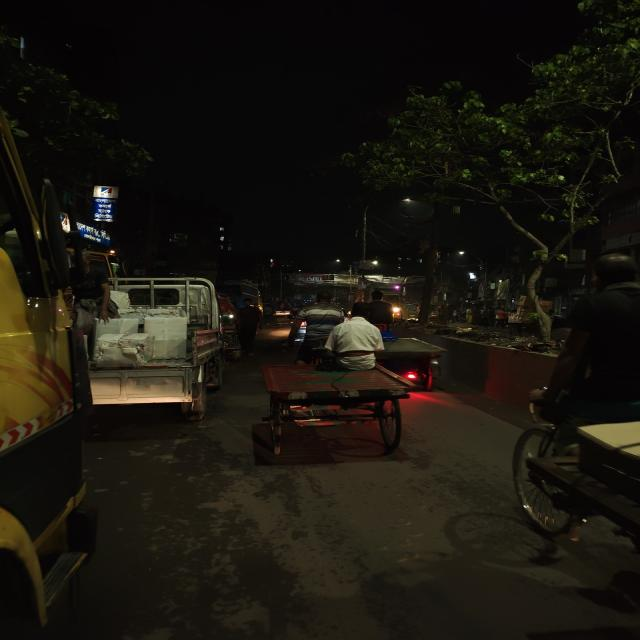pickup_van: (100, 270, 228, 412)
rickshaw: (506, 272, 640, 569), (248, 302, 428, 458)
